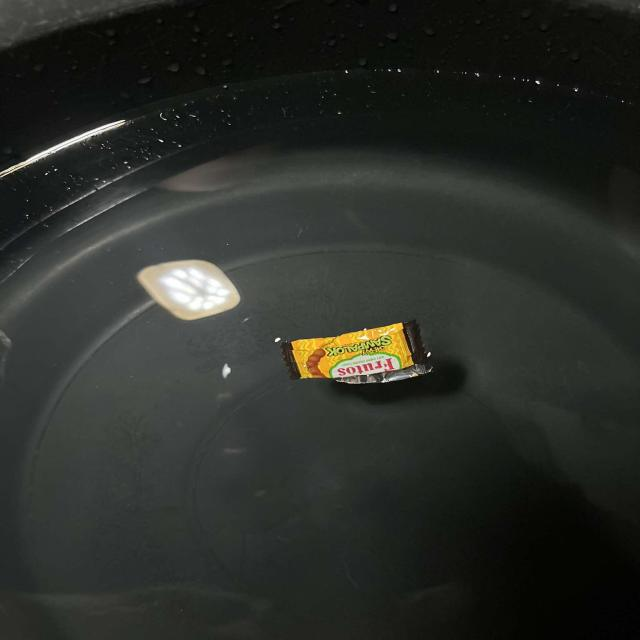Plastic Wrapper: (280, 321, 431, 384)
